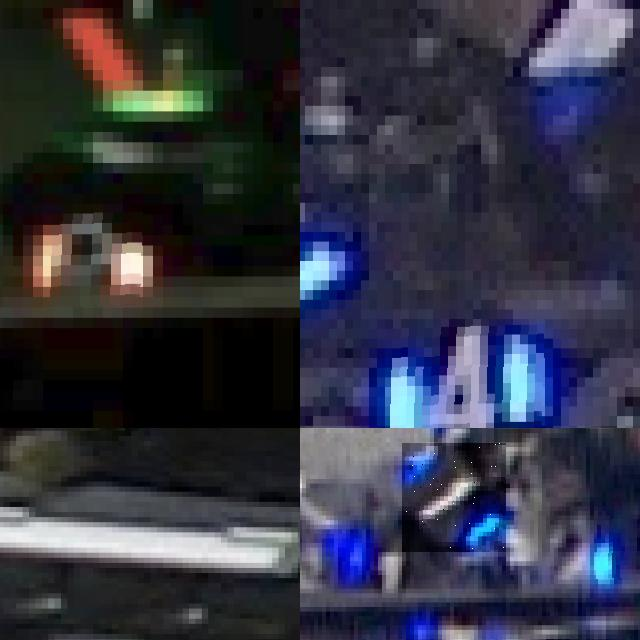B1: (402, 443, 506, 552), (594, 501, 640, 579)
B4: (385, 319, 545, 428)
Rs: (43, 204, 143, 308)
